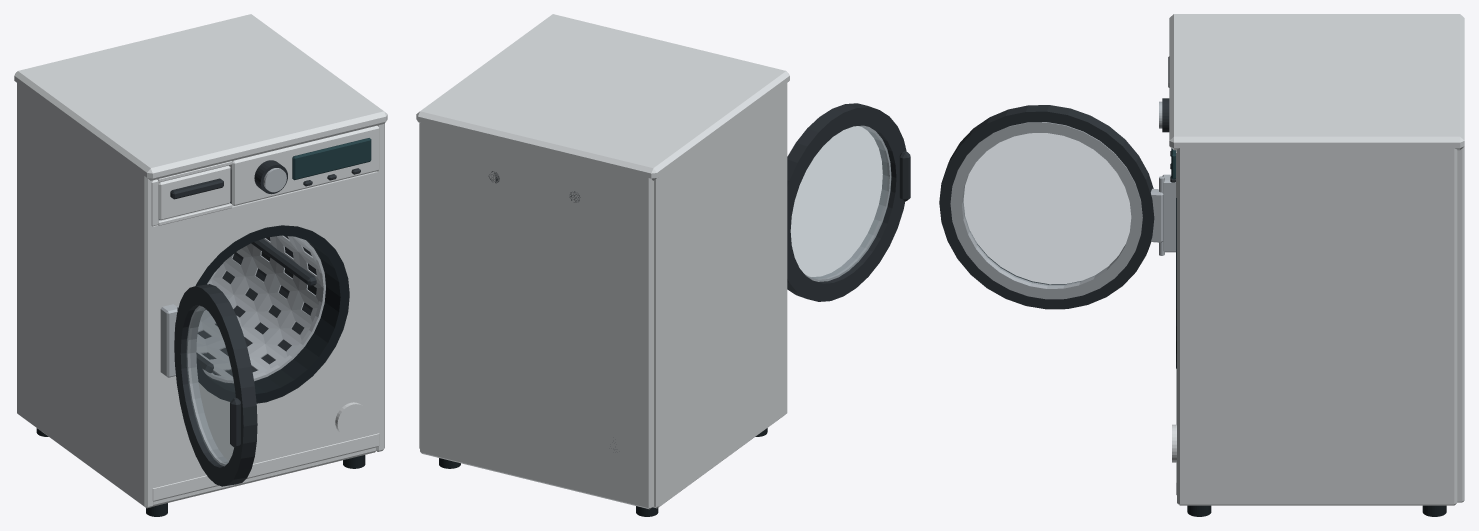
The picture shows the model from 3 angles, left to right: view 1: azimuth 30°, elevation 25°; view 2: azimuth 150°, elevation 25°; view 3: azimuth 270°, elevation 25°; orthographic projection. The views are drawn at different scales.
Visible parts, largest first — view 1: Cabinet side -0.287, Cabinet top cap, Front porthole fascia, Rotating perforated drum sleeve, Door moving outer trim, Flexible front door gasket, Door moving glazed disk, Control panel right, Lower kick panel, Drawer moving front, Cabinet side 0.287, Dark display screen (+12 smaller); view 2: Cabinet rear panel, Cabinet side -0.287, Cabinet top cap, Door moving glazed disk, Door moving outer trim, Door moving inner ring, Door moving handle; view 3: Cabinet side 0.287, Cabinet top cap, Door moving glazed disk, Door moving outer trim, Door moving inner ring, Cabinet rear panel, Fixed door hinge leaf, Door moving hinge arm.
Part boxes in pixels (x1=…): Cabinet side -0.287: x1=17, y1=81, x2=153, y2=508; Cabinet top cap: x1=14, y1=14, x2=387, y2=180; Front porthole fascia: x1=151, y1=171, x2=380, y2=488; Rotating perforated drum sleeve: x1=196, y1=235, x2=320, y2=378; Door moving outer trim: x1=174, y1=284, x2=257, y2=486; Flexible front door gasket: x1=195, y1=225, x2=349, y2=403; Door moving glazed disk: x1=186, y1=306, x2=235, y2=465; Control panel right: x1=229, y1=125, x2=379, y2=205; Lower kick panel: x1=152, y1=433, x2=379, y2=501; Drawer moving front: x1=158, y1=165, x2=230, y2=220; Cabinet side 0.287: x1=376, y1=123, x2=384, y2=451; Dark display screen: x1=292, y1=138, x2=371, y2=180; Cabinet rear panel: x1=420, y1=121, x2=653, y2=509; Cabinet side -0.287: x1=653, y1=83, x2=787, y2=508; Cabinet top cap: x1=416, y1=14, x2=789, y2=180; Door moving glazed disk: x1=791, y1=126, x2=891, y2=280; Door moving outer trim: x1=787, y1=103, x2=906, y2=301; Door moving inner ring: x1=804, y1=125, x2=891, y2=281; Door moving handle: x1=899, y1=151, x2=910, y2=201; Cabinet side 0.287: x1=1177, y1=146, x2=1457, y2=505; Cabinet top cap: x1=1169, y1=14, x2=1464, y2=150; Door moving glazed disk: x1=963, y1=133, x2=1130, y2=285; Door moving outer trim: x1=939, y1=105, x2=1154, y2=309; Door moving inner ring: x1=950, y1=122, x2=1142, y2=299; Cabinet rear panel: x1=1457, y1=146, x2=1464, y2=502; Fixed door hinge leaf: x1=1162, y1=174, x2=1175, y2=252; Door moving hinge arm: x1=1151, y1=188, x2=1163, y2=242.
Bounding box in the file's own units: 0.6435 × 0.848 × 1.05.
